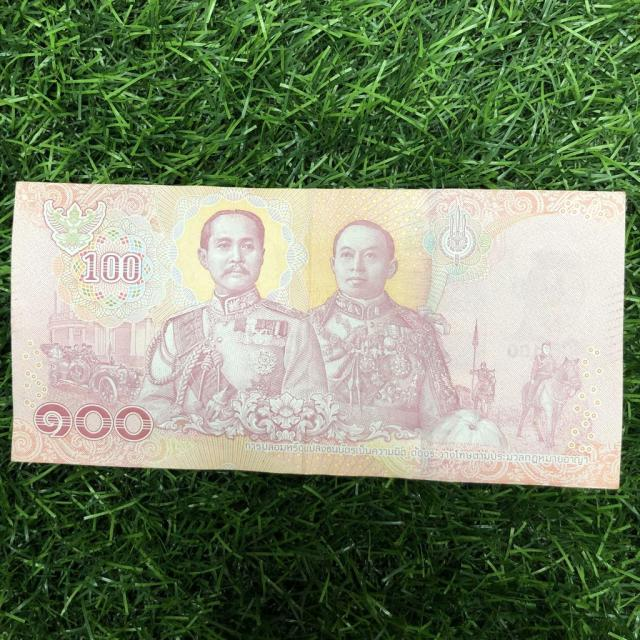THAI100: (12, 182, 625, 488)
